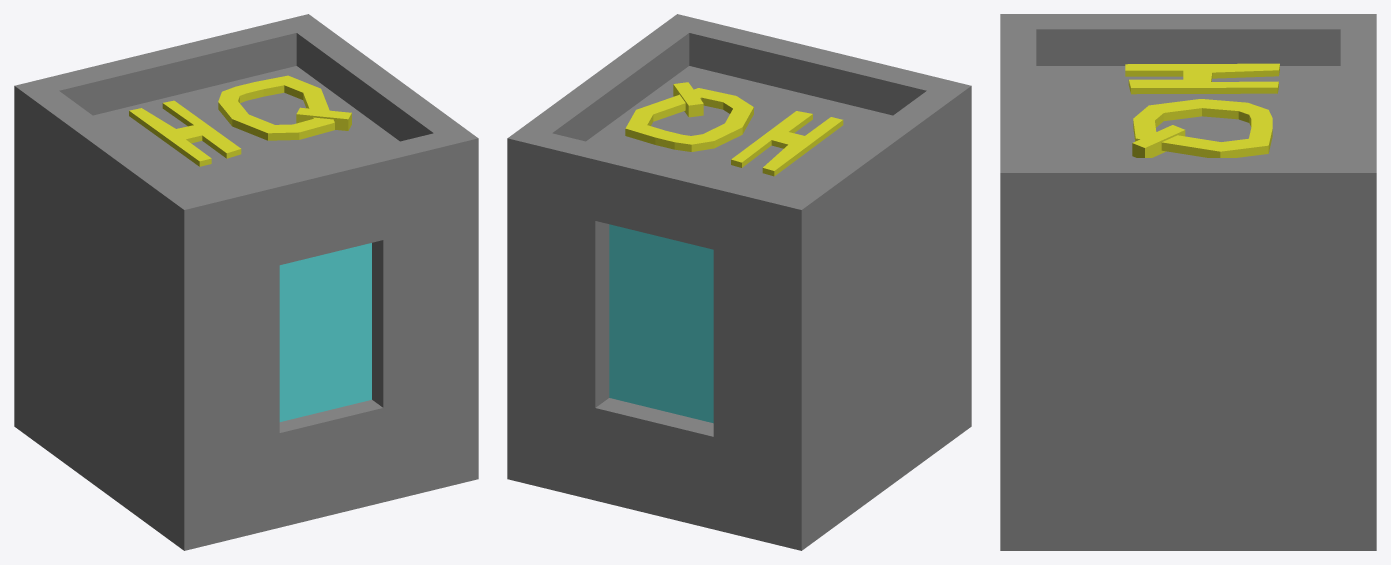
Rendered from tile_hq.fbx.
3 renders of one model, left to right at view 1: azimuth 30°, elevation 25°; view 2: azimuth 150°, elevation 25°; view 3: azimuth 270°, elevation 25°, orthographic. The views are drawn at different scales.
Visible parts, largest first — view 1: Cube, Plane.001, Plane, Cube.001; view 2: Cube, Plane.001, Plane, Cube.001; view 3: Cube, Plane.001, Plane, Cube.001.
Boxes of the visible parts, left/top/right/bottom form: Cube: left=14, top=14, right=478, bottom=550; Plane.001: left=218, top=75, right=334, bottom=140; Plane: left=129, top=100, right=241, bottom=166; Cube.001: left=296, top=107, right=351, bottom=130; Cube: left=507, top=14, right=971, bottom=550; Plane.001: left=625, top=88, right=753, bottom=151; Plane: left=731, top=111, right=843, bottom=176; Cube.001: left=673, top=82, right=703, bottom=117; Cube: left=1000, top=14, right=1376, bottom=550; Plane.001: left=1133, top=99, right=1272, bottom=157; Plane: left=1125, top=63, right=1279, bottom=94; Cube.001: left=1132, top=125, right=1185, bottom=157.
Bounding box in the file's own units: 200 × 221 × 200.
